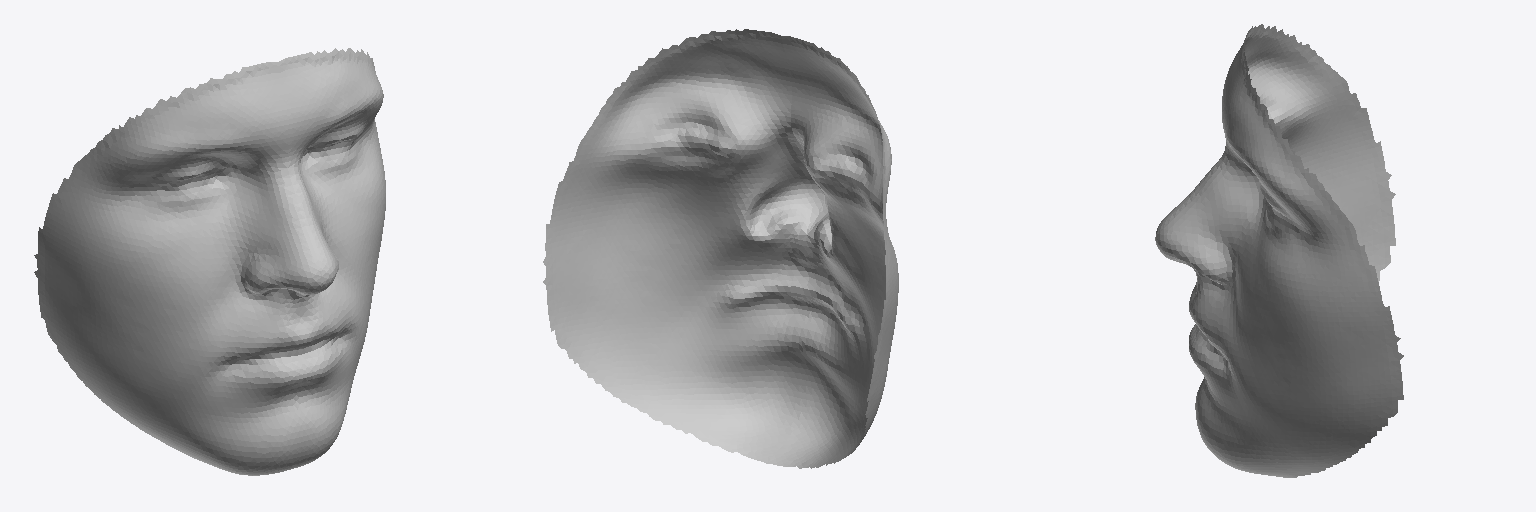
The model's file is SIMPOP_13.obj.
The picture shows the model from 3 angles: view 1: azimuth 30°, elevation 25°; view 2: azimuth 150°, elevation 25°; view 3: azimuth 270°, elevation 25°; orthographic projection.
Parts seen in each view (by area): view 1: SIMPOP_13; view 2: SIMPOP_13; view 3: SIMPOP_13.
Part boxes in pixels (bbox=[...]): SIMPOP_13: bbox=[34, 48, 385, 475]; SIMPOP_13: bbox=[543, 29, 898, 468]; SIMPOP_13: bbox=[1155, 24, 1403, 477].
Size of the model in its own units: 154 by 183 by 99.62.